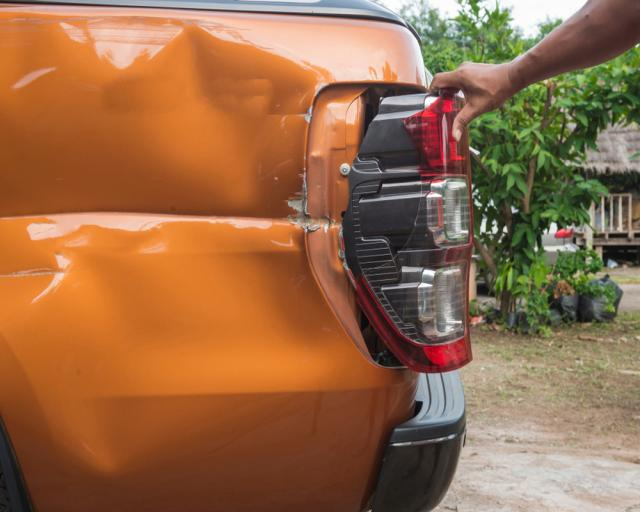dent: (26, 221, 333, 471), (105, 25, 320, 202)
lamp broken: (342, 92, 474, 373)
